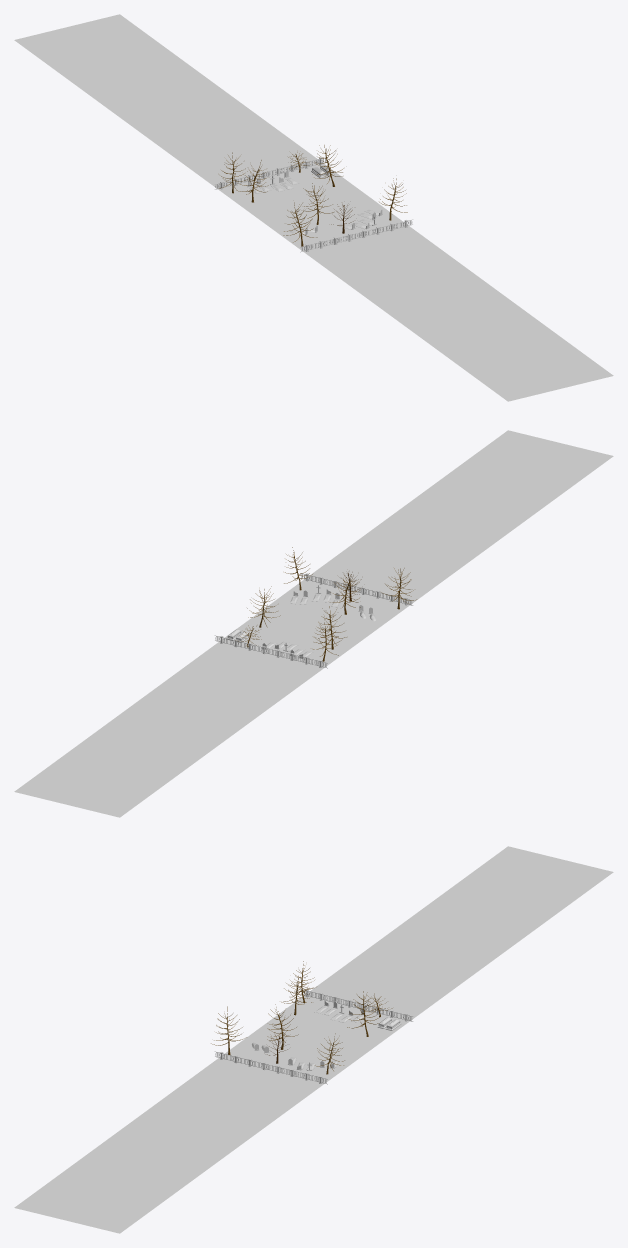
3 renders of one model, top to bottom at view 1: azimuth 30°, elevation 25°; view 2: azimuth 150°, elevation 25°; view 3: azimuth 330°, elevation 25°, orthographic.
Visible parts, largest first — view 1: GY100, GY102, Box008; view 2: GY100, GY102, Box008; view 3: GY100, GY102, Box008.
Part boxes in pixels (x1=…): GY100: x1=14, y1=14, x2=613, y2=401; GY102: x1=214, y1=157, x2=413, y2=252; Box008: x1=247, y1=171, x2=382, y2=229; GY100: x1=14, y1=430, x2=613, y2=817; GY102: x1=214, y1=573, x2=413, y2=668; Box008: x1=262, y1=585, x2=340, y2=658; GY100: x1=14, y1=846, x2=613, y2=1233; GY102: x1=214, y1=989, x2=413, y2=1084; Box008: x1=287, y1=1000, x2=365, y2=1070.
Size of the model in its own units: 1180 by 416 by 8000.
